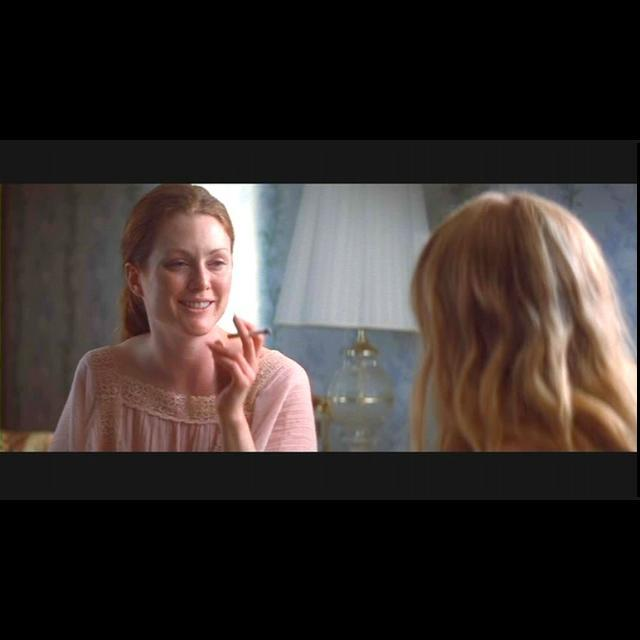rokok: (226, 324, 276, 341)
